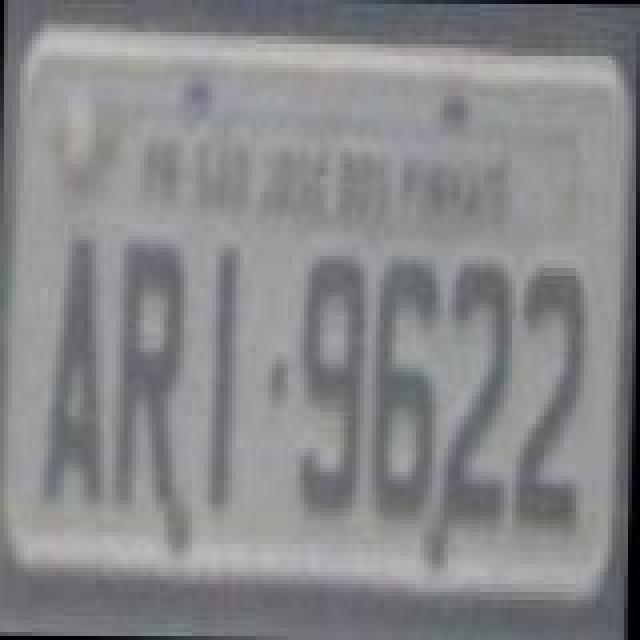1: (208, 234, 248, 514)
2: (438, 250, 518, 522), (514, 260, 594, 532)
6: (370, 250, 450, 522)
9: (296, 248, 372, 520)
A: (42, 236, 118, 508)
R: (116, 234, 196, 514)
